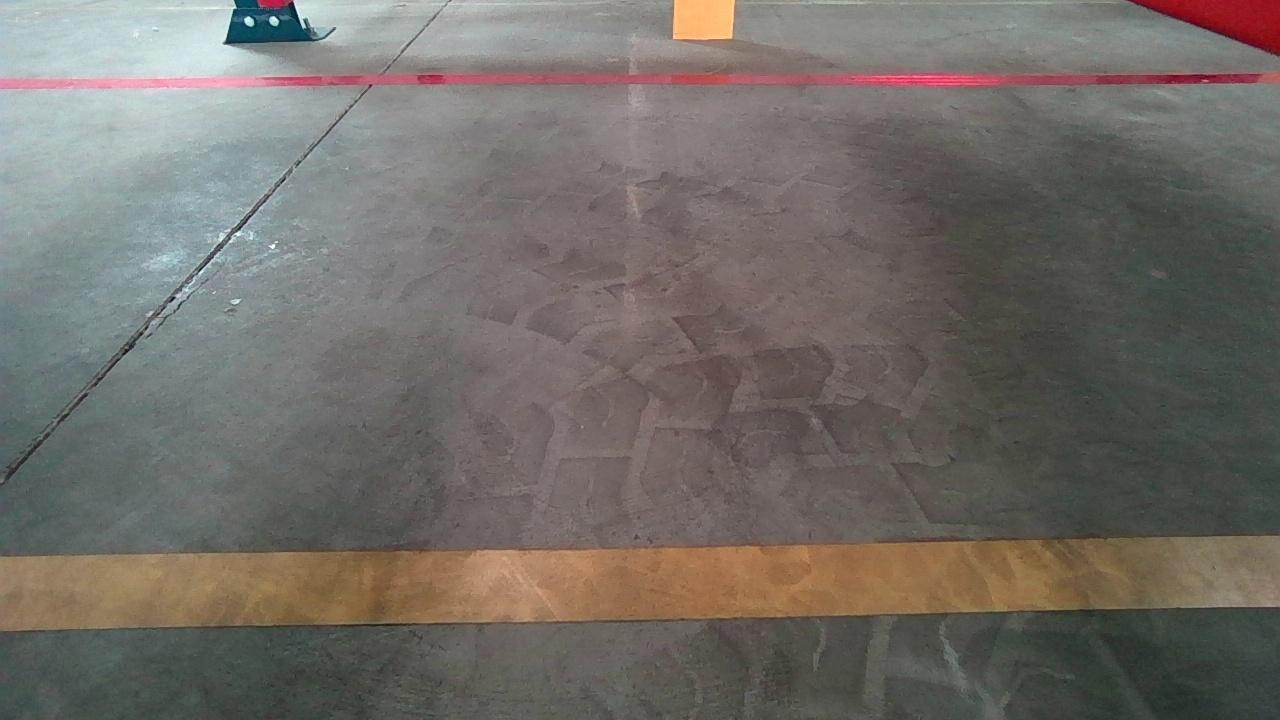yellow_line: (8, 533, 1280, 632)
